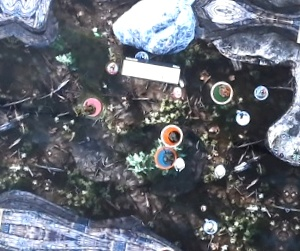green: (208, 79, 235, 106)
light_blue_orange: (152, 145, 178, 171)
orange: (156, 122, 183, 149)
pink_green: (77, 93, 104, 119)
